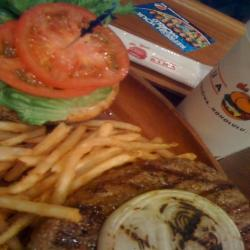burger: (41, 162, 248, 250), (1, 3, 125, 123)
fries: (3, 126, 155, 189)
